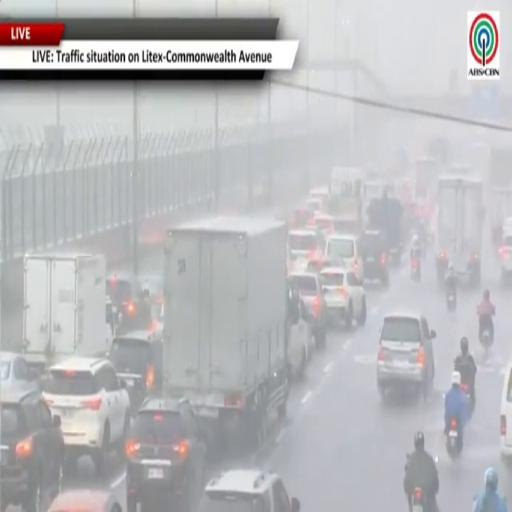car: (44, 357, 130, 473), (126, 398, 208, 511), (0, 390, 64, 511), (377, 312, 436, 398), (109, 325, 163, 413), (198, 469, 300, 511), (289, 272, 328, 348), (320, 267, 366, 328), (107, 272, 151, 332), (287, 302, 314, 378), (324, 234, 364, 281), (48, 489, 122, 511), (361, 230, 389, 285), (288, 229, 324, 271), (0, 351, 38, 389), (106, 272, 142, 312), (500, 362, 511, 467), (499, 229, 511, 283), (288, 206, 313, 229), (306, 258, 344, 271), (314, 213, 333, 234), (305, 197, 326, 216), (309, 186, 329, 203)
motorcycle: (447, 419, 462, 459), (461, 382, 474, 419), (480, 329, 492, 355), (412, 488, 425, 511), (446, 287, 456, 311), (411, 258, 420, 282)
truck: (164, 216, 288, 449), (23, 252, 115, 374), (436, 175, 483, 285), (486, 147, 511, 244), (367, 196, 402, 265), (329, 167, 365, 234), (487, 186, 511, 246), (415, 157, 438, 209)
